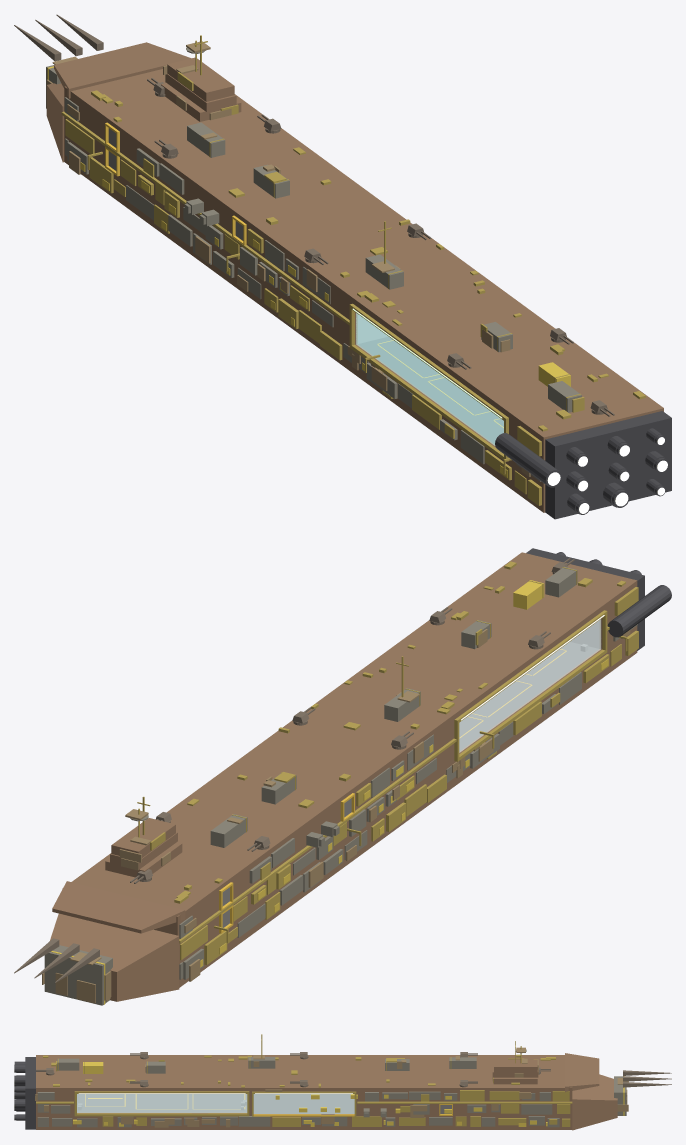
File: ship_LARGE_v2.glb
3 renders of one model, top to bottom at view 1: azimuth 30°, elevation 25°; view 2: azimuth 150°, elevation 25°; view 3: azimuth 270°, elevation 25°, orthographic. The views are drawn at different scales.
Visible parts, largest first — view 1: LARGE_Hull-col, LARGE_Engines, LARGE_Trim, LARGE_Armor, LARGE_HangarShield_Port, LARGE_Decks-col, LARGE_ScrapPlates, LARGE_Details, LARGE_Accent, LARGE_ScrapTrim, LARGE_RamSpikes, LARGE_Hazard (+1 smaller); view 2: LARGE_Hull-col, LARGE_Armor, LARGE_Trim, LARGE_HangarShield_Port, LARGE_ScrapPlates, LARGE_Decks-col, LARGE_Engines, LARGE_Accent, LARGE_Details, LARGE_ScrapTrim, LARGE_RamSpikes, LARGE_Hazard; view 3: LARGE_Hull-col, LARGE_Armor, LARGE_Trim, LARGE_HangarShield_Starboard, LARGE_Decks-col, LARGE_CargoBayShield, LARGE_CargoBayDoor-col, LARGE_ScrapPlates, LARGE_Engines, LARGE_Accent, LARGE_Hazard, LARGE_RamSpikes (+3 smaller).
Boxes of the visible parts, <box> form: LARGE_Hull-col: <box>46,42,663,512</box>; LARGE_Engines: <box>495,411,671,519</box>; LARGE_Trim: <box>61,40,581,505</box>; LARGE_Armor: <box>46,47,581,481</box>; LARGE_HangarShield_Port: <box>356,313,503,445</box>; LARGE_Decks-col: <box>358,336,503,444</box>; LARGE_ScrapPlates: <box>46,41,530,476</box>; LARGE_Details: <box>91,90,645,431</box>; LARGE_Accent: <box>47,66,570,477</box>; LARGE_ScrapTrim: <box>143,35,584,438</box>; LARGE_RamSpikes: <box>14,14,103,61</box>; LARGE_Hazard: <box>105,122,503,428</box>; LARGE_Hull-col: <box>50,552,637,1001</box>; LARGE_Armor: <box>44,566,637,1005</box>; LARGE_Trim: <box>138,567,638,964</box>; LARGE_HangarShield_Port: <box>459,619,600,752</box>; LARGE_ScrapPlates: <box>42,629,630,1003</box>; LARGE_Decks-col: <box>459,642,598,751</box>; LARGE_Engines: <box>526,548,671,650</box>; LARGE_Accent: <box>51,580,608,1004</box>; LARGE_Details: <box>174,561,625,903</box>; LARGE_ScrapTrim: <box>137,629,560,880</box>; LARGE_RamSpikes: <box>14,938,99,982</box>; LARGE_Hazard: <box>219,649,566,933</box>; LARGE_Hull-col: <box>36,1053,617,1130</box>; LARGE_Armor: <box>37,1049,626,1127</box>; LARGE_Trim: <box>36,1046,572,1126</box>; LARGE_HangarShield_Starboard: <box>77,1094,247,1112</box>; LARGE_Decks-col: <box>77,1094,247,1112</box>; LARGE_CargoBayShield: <box>253,1094,354,1113</box>; LARGE_CargoBayDoor-col: <box>253,1094,354,1113</box>; LARGE_ScrapPlates: <box>35,1047,628,1127</box>; LARGE_Engines: <box>14,1057,35,1129</box>; LARGE_Accent: <box>73,1062,624,1126</box>; LARGE_Hazard: <box>85,1094,452,1116</box>; LARGE_RamSpikes: <box>623,1070,671,1087</box>.
Size of the model in its own units: 27.7 by 26.61 by 185.
